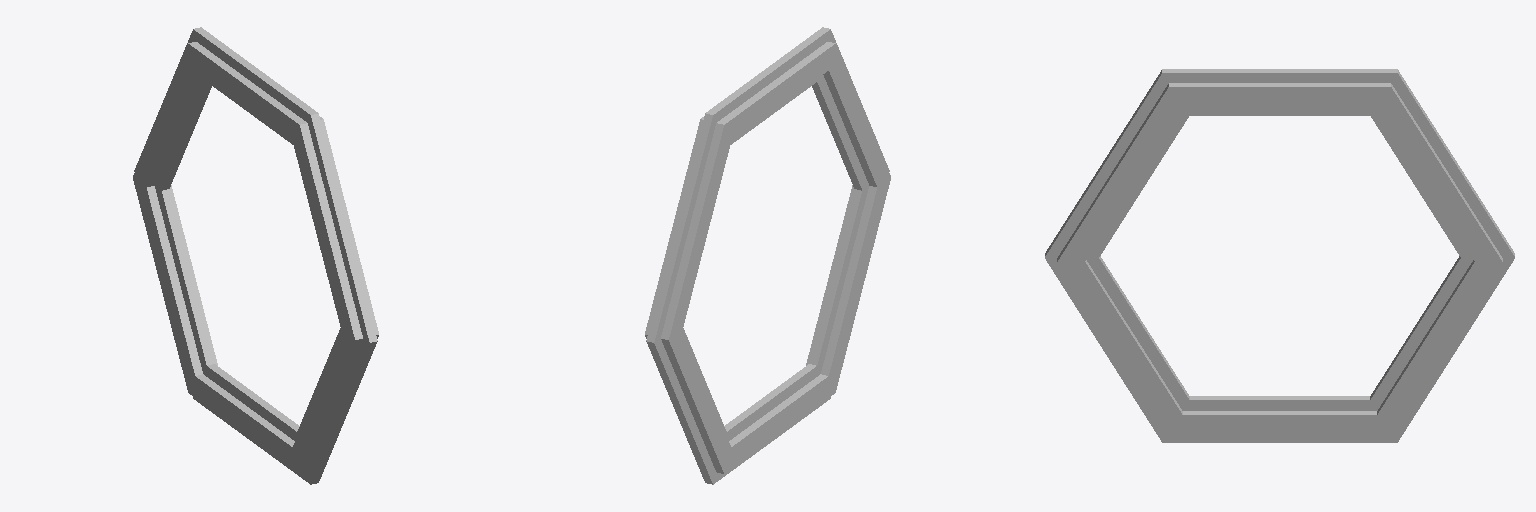
Rendered from teleporter.obj.
3 renders of one model, left to right at view 1: azimuth 30°, elevation 25°; view 2: azimuth 150°, elevation 25°; view 3: azimuth 270°, elevation 25°, orthographic.
Visible parts, largest first — view 1: Circle; view 2: Circle; view 3: Circle.
Part boxes in pixels (left/top/right/bottom): Circle: left=133, top=27, right=378, bottom=484; Circle: left=645, top=27, right=890, bottom=484; Circle: left=1045, top=69, right=1514, bottom=442.
Size of the model in its own units: 0.25 by 3.66 by 4.23.